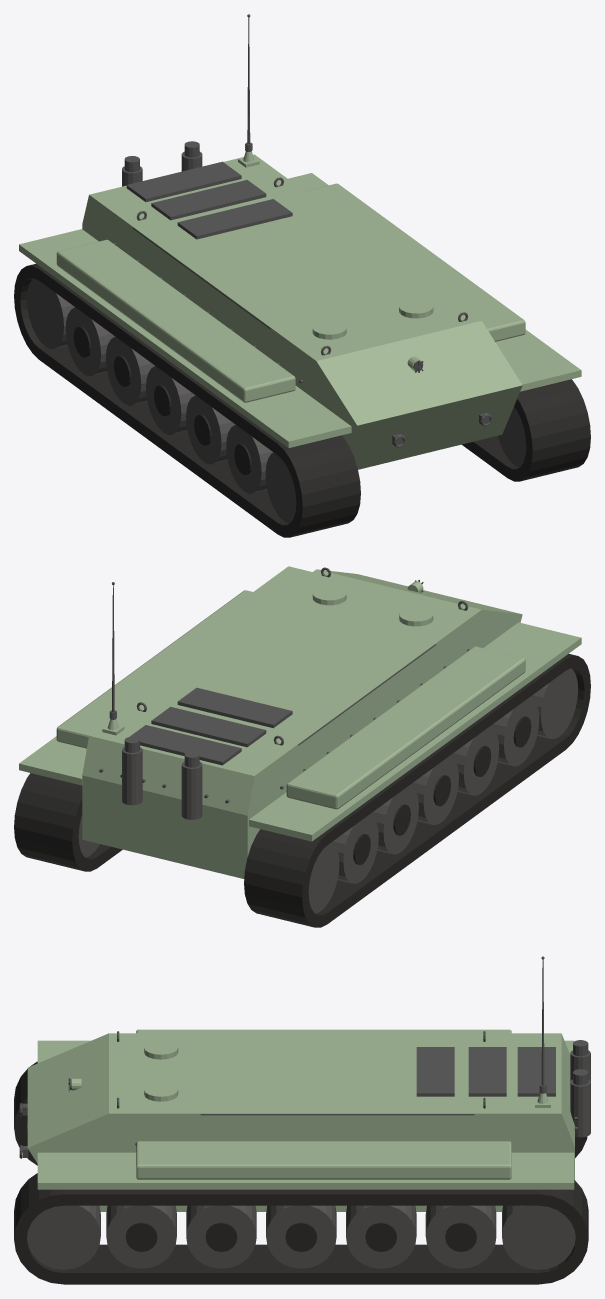
Rendered from player_hull_base.glb.
3 views of the same model, one above another, from view 1: azimuth 30°, elevation 25°; view 2: azimuth 150°, elevation 25°; view 3: azimuth 270°, elevation 25° (orthographic).
Visible parts, largest first — view 1: hull_body, track_right, stowage_bin_right, fender_right, track_left, stowage_bin_left, fender_left, engine_grille_1, engine_grille_0, engine_grille_2, wheel_sprocket_r, wheel_road_r1 (+6 smaller); view 2: hull_body, track_right, stowage_bin_right, fender_right, stowage_bin_left, track_left, fender_left, engine_grille_1, engine_grille_0, wheel_idler_r, engine_grille_2, wheel_road_r3 (+9 smaller); view 3: hull_body, track_left, stowage_bin_left, fender_left, wheel_idler_l, wheel_sprocket_l, wheel_road_l4, wheel_road_l1, wheel_road_l2, wheel_road_l3, wheel_road_l0, engine_grille_0 (+14 smaller).
Part boxes in pixels (<box>): hull_body: <box>82,154,522,469</box>; track_right: <box>14,263,360,537</box>; stowage_bin_right: <box>56,239,295,402</box>; fender_right: <box>19,229,351,448</box>; track_left: <box>462,379,590,481</box>; stowage_bin_left: <box>305,183,525,341</box>; fender_left: <box>288,173,581,391</box>; engine_grille_1: <box>151,180,266,220</box>; engine_grille_0: <box>177,199,292,239</box>; engine_grille_2: <box>126,161,241,201</box>; wheel_sprocket_r: <box>26,278,74,348</box>; wheel_road_r1: <box>186,395,235,464</box>; hull_body: <box>82,569,522,878</box>; track_right: <box>244,654,590,927</box>; stowage_bin_right: <box>286,646,525,809</box>; fender_right: <box>249,622,581,841</box>; stowage_bin_left: <box>56,590,276,748</box>; track_left: <box>14,773,122,871</box>; fender_left: <box>19,566,312,785</box>; engine_grille_1: <box>151,706,266,747</box>; engine_grille_0: <box>177,687,292,728</box>; wheel_idler_r: <box>530,668,578,738</box>; engine_grille_2: <box>129,725,241,765</box>; wheel_road_r3: <box>369,785,418,854</box>; hull_body: <box>27,1033,574,1211</box>; track_left: <box>14,1173,588,1284</box>; stowage_bin_left: <box>136,1141,511,1179</box>; fender_left: <box>37,1152,574,1189</box>; wheel_idler_l: <box>27,1205,100,1269</box>; wheel_sprocket_l: <box>502,1205,575,1269</box>; wheel_road_l4: <box>425,1205,496,1268</box>; wheel_road_l1: <box>186,1205,256,1268</box>; wheel_road_l2: <box>266,1205,336,1268</box>; wheel_road_l3: <box>346,1205,416,1268</box>; wheel_road_l0: <box>106,1205,176,1268</box>; engine_grille_0: <box>416,1047,454,1096</box>.
Bounding box in the file's own units: 3.72 × 3.55 × 6.38.
